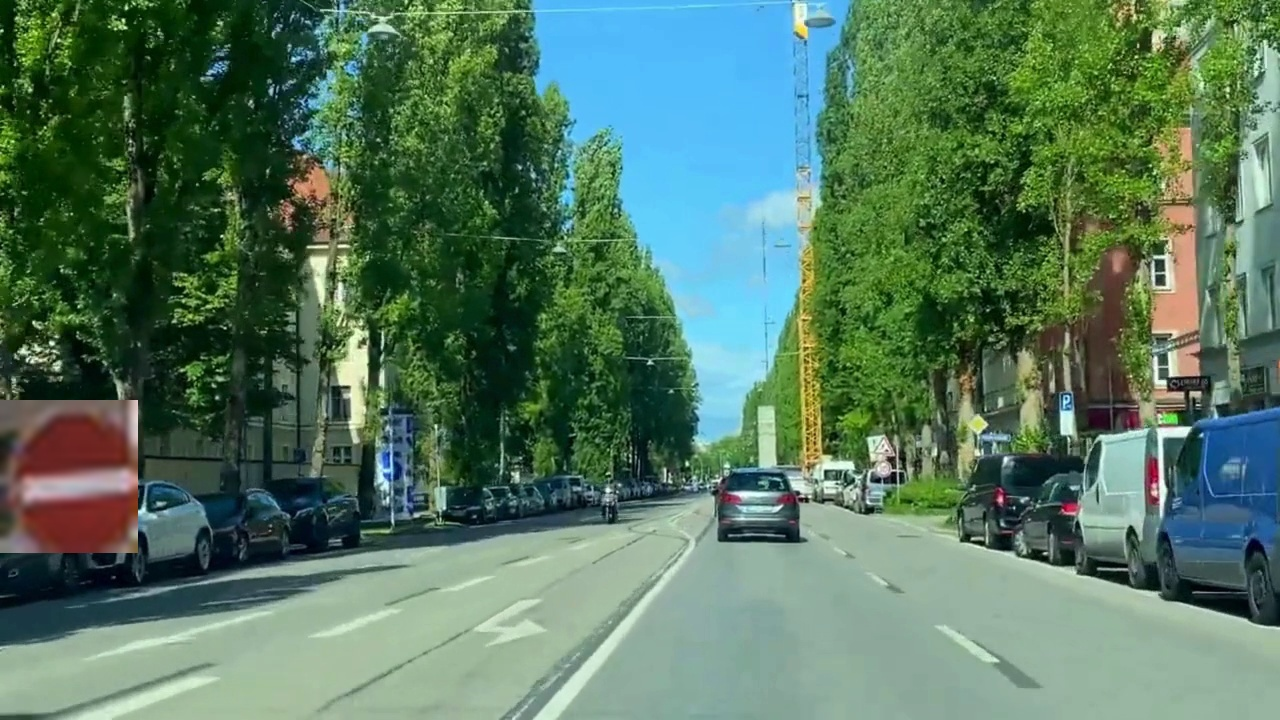No entry: (0, 400, 138, 553)
